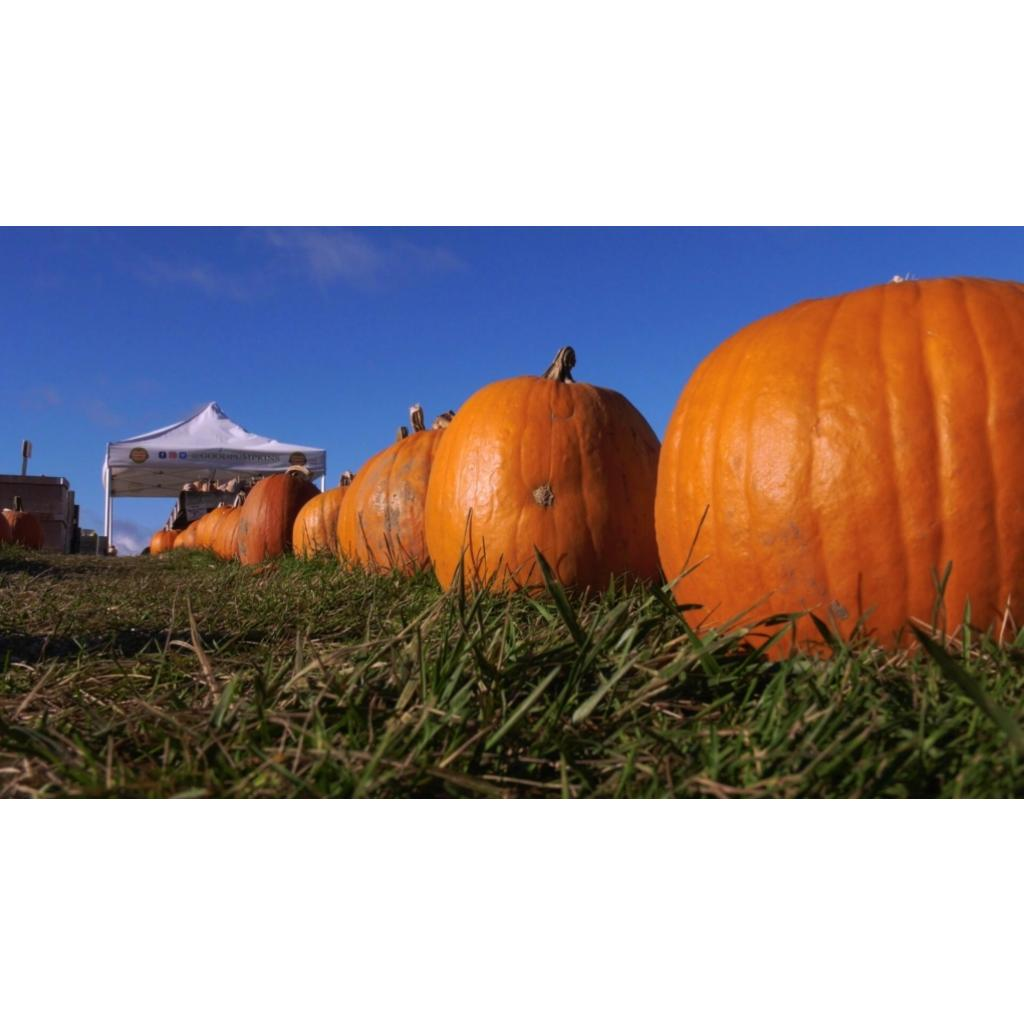pumpkin: (654, 277, 1024, 643), (424, 347, 660, 589), (336, 403, 454, 574), (238, 473, 320, 565), (292, 485, 345, 557), (2, 495, 44, 548), (194, 505, 232, 549), (212, 507, 241, 559), (174, 519, 199, 547), (150, 529, 178, 552), (0, 511, 14, 542)
